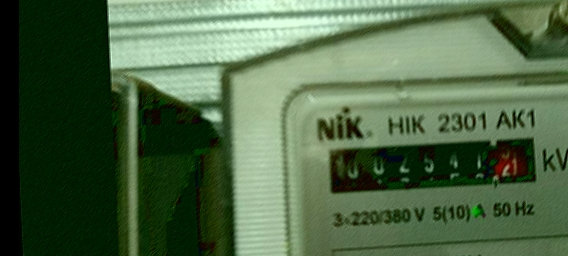0: (342, 153, 361, 180), (370, 149, 385, 177)
1: (470, 143, 484, 170)
2: (394, 148, 411, 174)
4: (446, 145, 460, 168)
5: (419, 146, 438, 174)
6: (498, 158, 513, 177)
screen: (315, 123, 551, 204)
